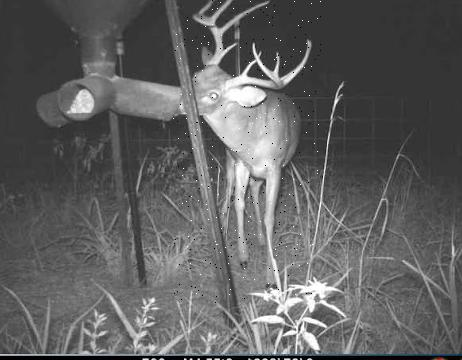Deer: (173, 0, 321, 303)
